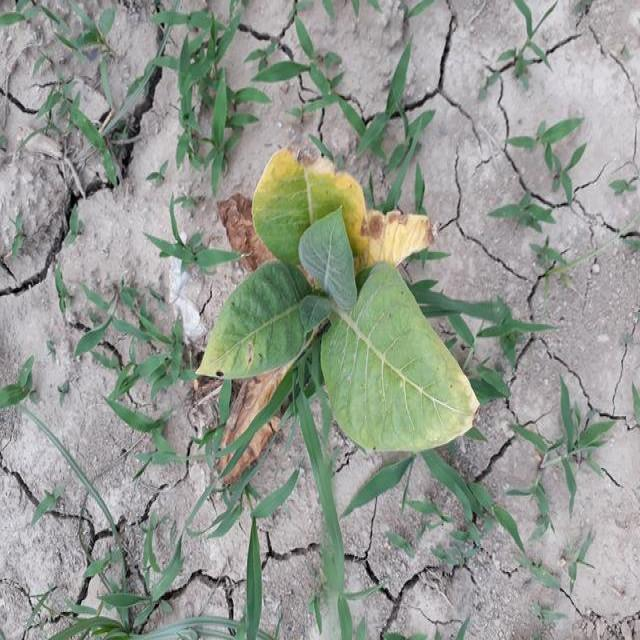crop: (210, 162, 478, 472)
